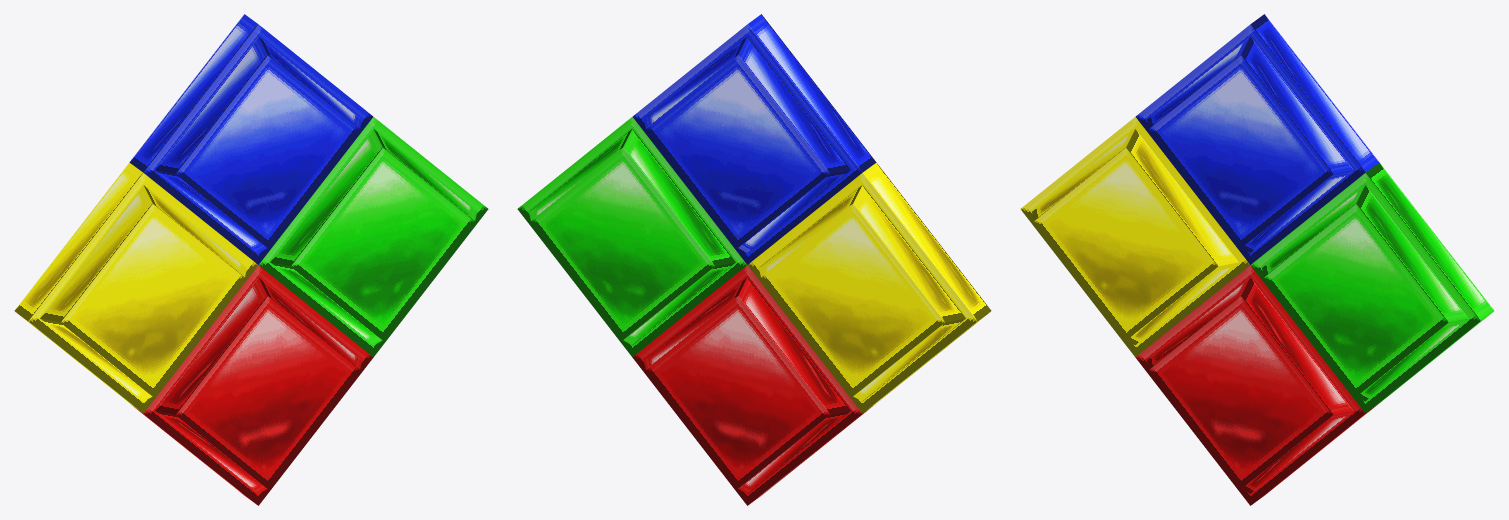
The model's file is ps2_save-icons_blokusclubwithbumpytrot.glb.
3 renders of one model, left to right at view 1: azimuth 30°, elevation 25°; view 2: azimuth 150°, elevation 25°; view 3: azimuth 330°, elevation 25°, orthographic.
Parts seen in each view (by area): view 1: icon_a.ico; view 2: icon_a.ico; view 3: icon_a.ico.
Part boxes in pixels (bbox=[...]): icon_a.ico: bbox=[14, 14, 488, 505]; icon_a.ico: bbox=[517, 14, 991, 505]; icon_a.ico: bbox=[1020, 14, 1494, 505].
Size of the model in its own units: 4.67 by 4.67 by 0.5771.
1 material, 1 textured.
